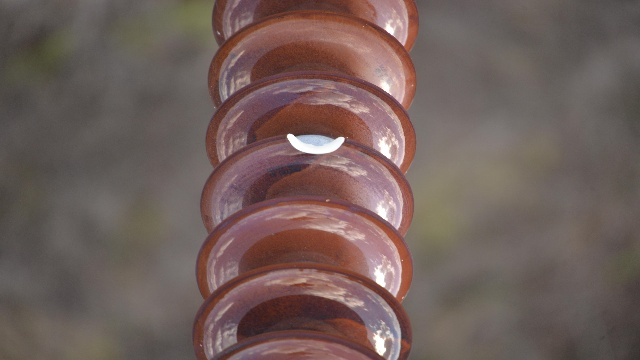broken_local: (285, 131, 348, 156)
insulator_unspecified: (193, 0, 424, 357)
